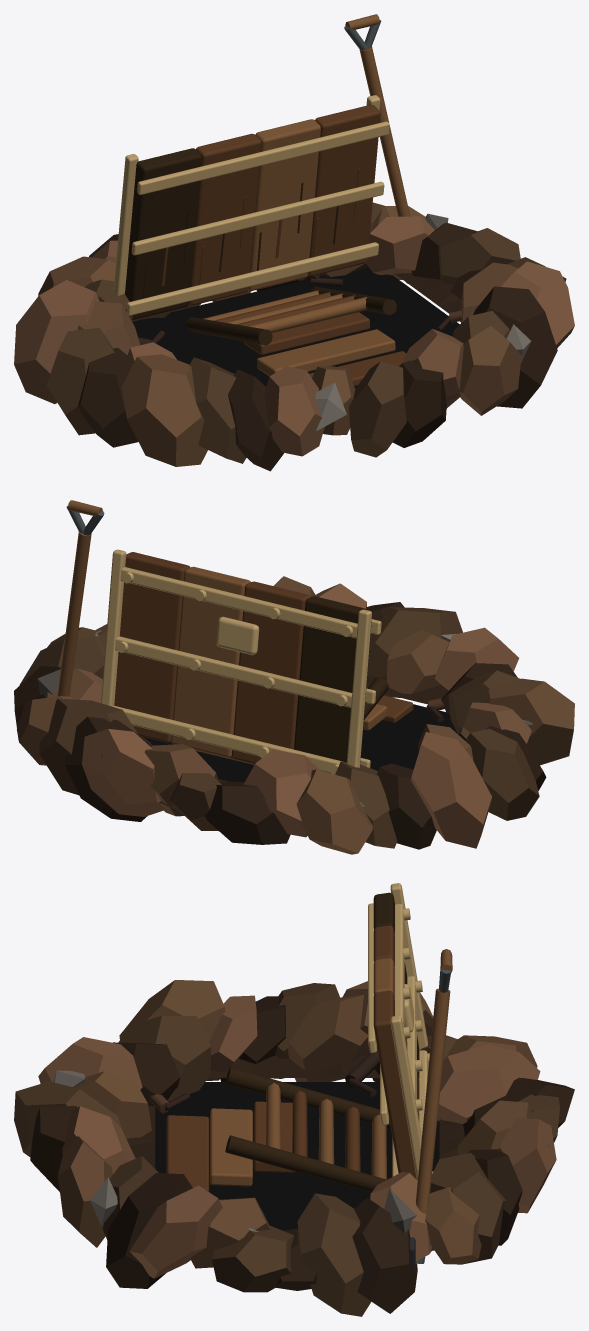
The model's file is hoard_entrance.glb.
3 renders of one model, top to bottom at view 1: azimuth 30°, elevation 25°; view 2: azimuth 150°, elevation 25°; view 3: azimuth 270°, elevation 25°, orthographic. The views are drawn at different scales.
Parts seen in each view (by area): view 1: HoardEarthAndStone, HoardHatchWood, HoardFixedWood, HoardHatchRarityMetalwork; view 2: HoardEarthAndStone, HoardHatchWood, HoardHatchRarityMetalwork, HoardFixedWood; view 3: HoardEarthAndStone, HoardFixedWood, HoardHatchRarityMetalwork, HoardHatchWood.
Part boxes in pixels (x1,y1,x2,y2): HoardEarthAndStone: [14, 202, 574, 471]; HoardHatchWood: [125, 104, 380, 319]; HoardFixedWood: [138, 14, 461, 385]; HoardHatchRarityMetalwork: [113, 95, 389, 315]; HoardEarthAndStone: [14, 576, 574, 854]; HoardHatchWood: [114, 552, 372, 763]; HoardHatchRarityMetalwork: [101, 549, 381, 774]; HoardFixedWood: [57, 500, 445, 764]; HoardEarthAndStone: [14, 980, 574, 1316]; HoardFixedWood: [150, 949, 452, 1213]; HoardHatchRarityMetalwork: [368, 883, 433, 1180]; HoardHatchWood: [373, 892, 419, 1179].
Size of the model in its own units: 5.73 by 3.19 by 5.01.
